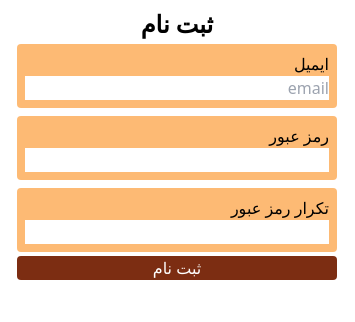
Register page › Handle errors and navigation › Should show confirm password error when intering invalid confirm password
This screenshot has width=355, height=322.
Expected: the text "رمز عبور و تکرارش برابر نیستند" is not shown
In the field labelled "ایمیل": (177, 88) [25,76,329,100], type "a@a.com"
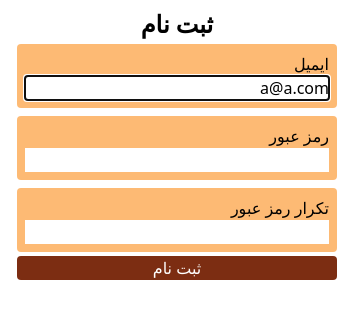
In the password field labelled "رمز عبور": (177, 160) [25,148,329,172], type "12345"
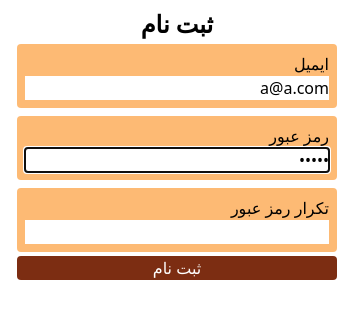
In the field labelled "تکرار رمز عبور": (177, 232) [25,220,329,244], type "123"
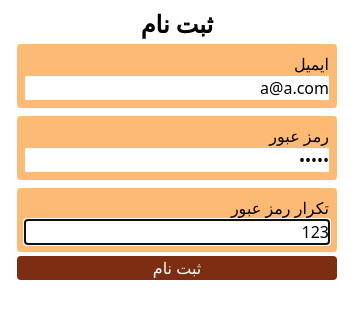
Click the button "ثبت نام": (177, 268) [17,256,337,280]
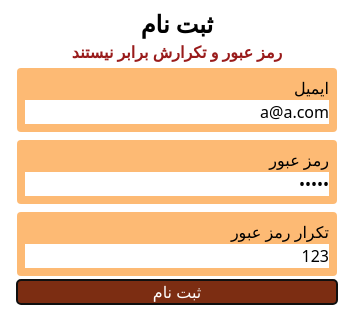
Expected: the text "رمز عبور و تکرارش برابر نیستند" is shown, [72,40,282,64]
